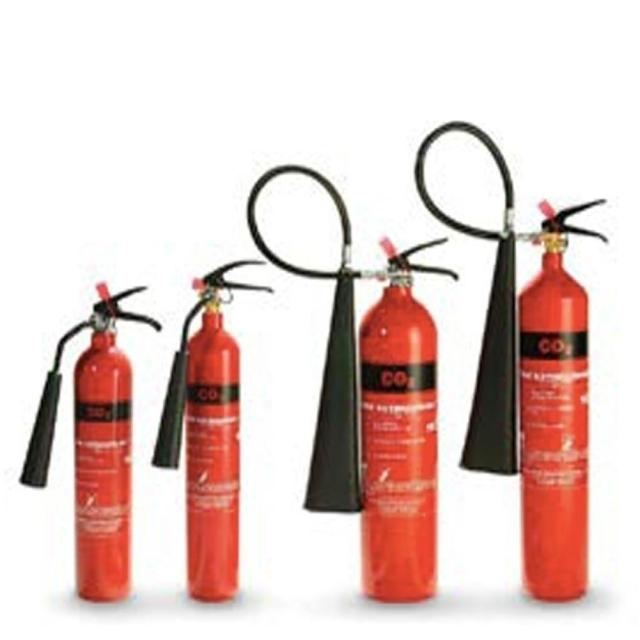fire_extinguisher: (411, 115, 613, 606), (243, 160, 462, 607), (14, 270, 163, 604), (148, 256, 278, 606)
